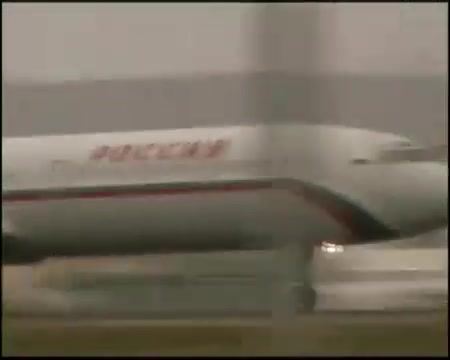aeroplane: (2, 120, 449, 314)
